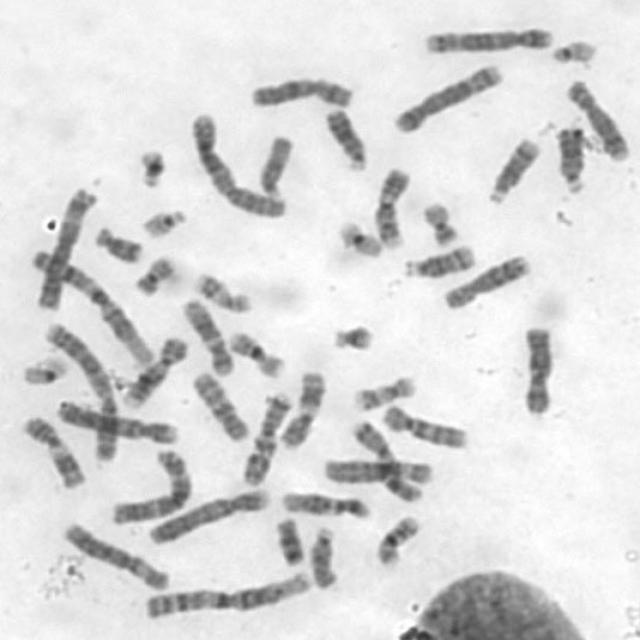A1: (25, 243, 158, 368), (139, 565, 314, 622)
A2: (37, 315, 120, 464), (186, 106, 290, 220)
A3: (30, 182, 99, 312), (106, 444, 194, 526)
B4: (142, 482, 274, 547), (52, 395, 180, 445)
B5: (387, 58, 506, 136), (420, 20, 556, 55)
C10: (188, 366, 255, 445), (376, 398, 471, 452)
C11: (14, 409, 88, 491), (276, 366, 327, 450)
C12: (179, 294, 236, 378), (277, 486, 375, 522)
C6: (58, 517, 172, 592), (319, 453, 437, 487)
C7: (346, 415, 427, 503), (236, 386, 294, 488)
C8: (562, 74, 632, 162), (438, 248, 534, 312)
C9: (118, 331, 190, 409), (370, 165, 412, 250)
D13: (319, 102, 370, 171), (550, 118, 590, 197)
D14: (481, 131, 543, 206), (399, 240, 478, 280)
D15: (253, 130, 296, 201), (304, 522, 338, 591)
E16: (224, 326, 290, 380), (370, 511, 423, 567)
E17: (188, 264, 254, 314), (348, 370, 420, 412)
E18: (90, 221, 146, 264), (270, 510, 308, 567)
F19: (332, 216, 385, 259), (15, 349, 72, 386)
F20: (131, 252, 176, 298), (418, 198, 459, 248)
G21: (131, 142, 170, 190), (326, 318, 379, 353)
G22: (138, 204, 189, 240), (548, 35, 600, 65)
X: (246, 73, 357, 110), (517, 322, 557, 416)
